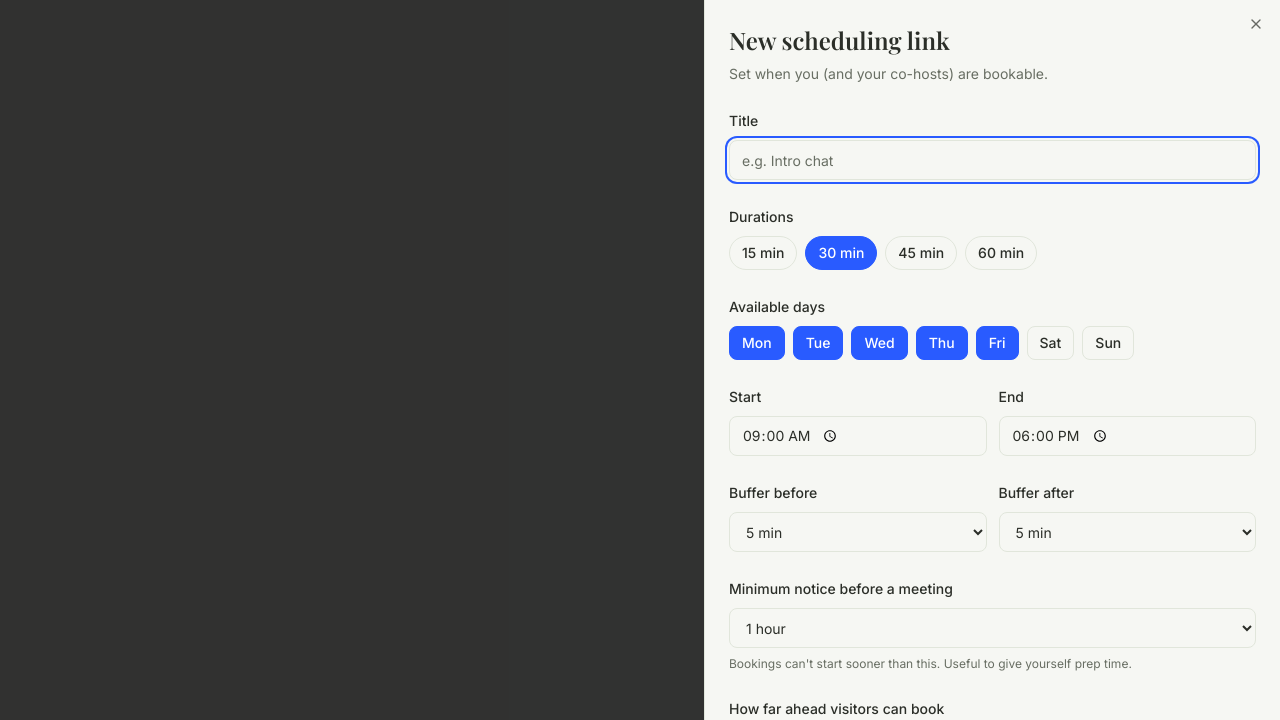
Scenario: the attempt key (contract §7.2) › the slug 409 keeps today's message (the server's text) and the key
Type "Intro" into the field labelled "Title" at (992, 160), box [729,140,1256,180]
(page scrolled)
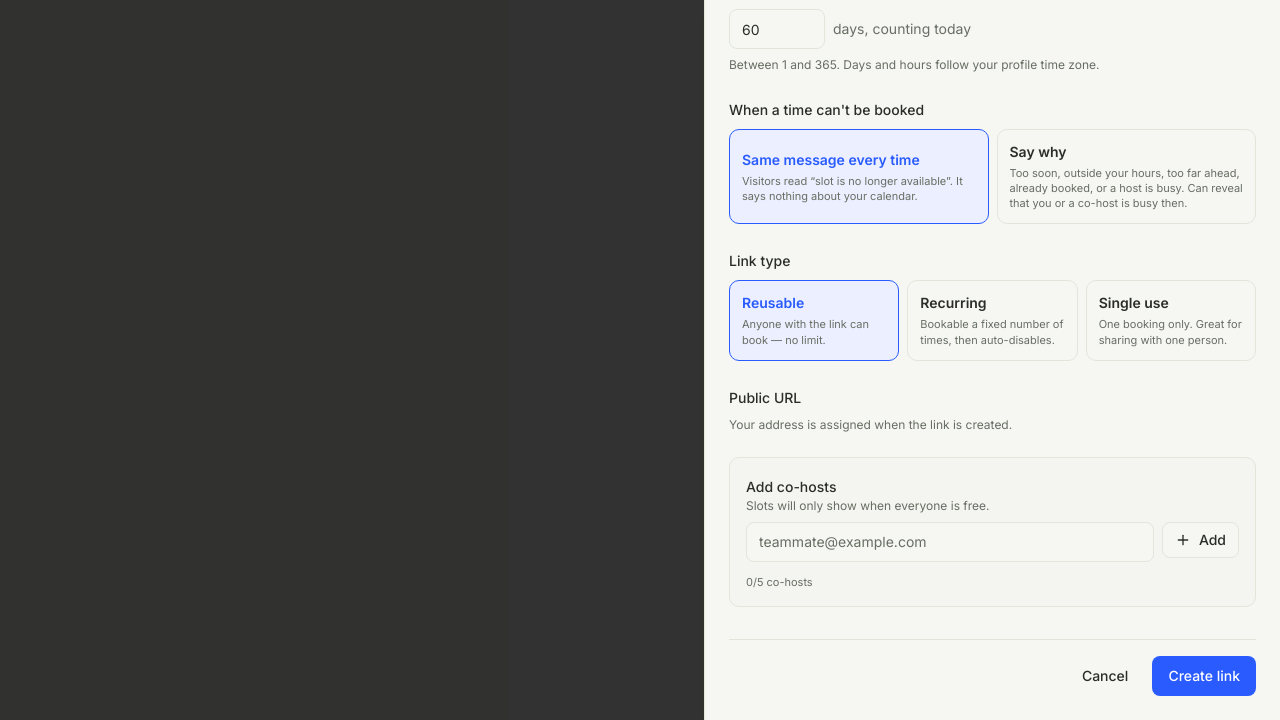
Click the button "Create link" at (1204, 676), box [1152,656,1256,696]
(page scrolled)
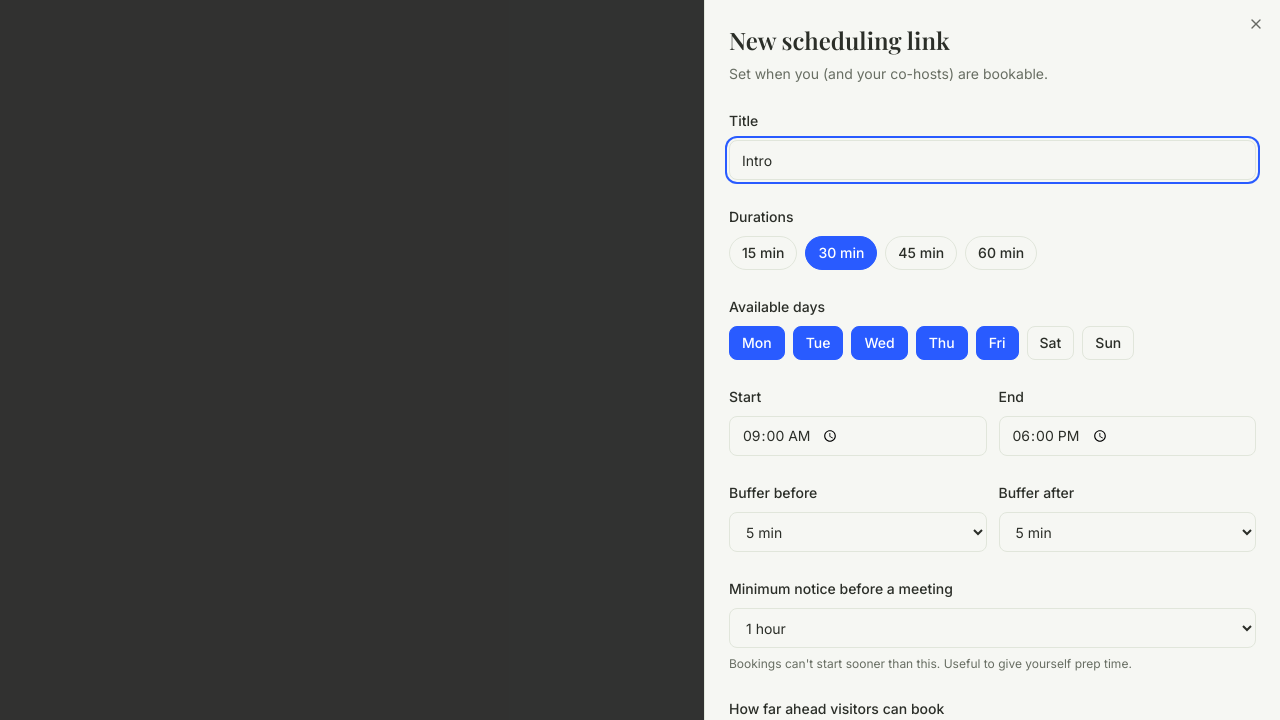
Now the heading reads "New scheduling link", box [729,24,950,56]
